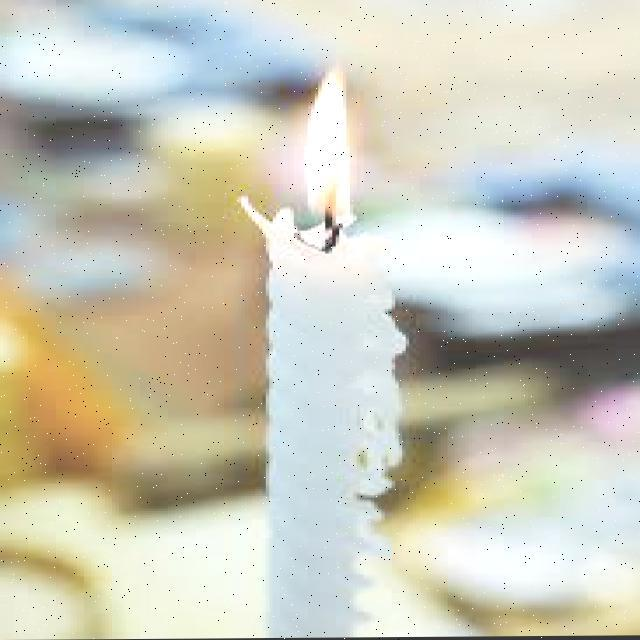Fire: (276, 51, 367, 236)
